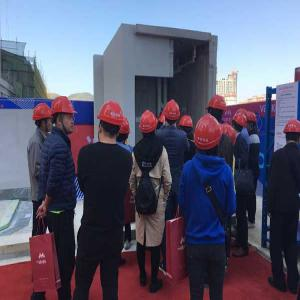red: (96, 100, 123, 143), (196, 114, 222, 158), (51, 96, 76, 134), (32, 102, 54, 133), (283, 119, 300, 148), (164, 99, 181, 127), (141, 111, 158, 138), (208, 94, 227, 118), (118, 116, 132, 144), (180, 115, 194, 135), (232, 115, 246, 135), (247, 113, 257, 133)
